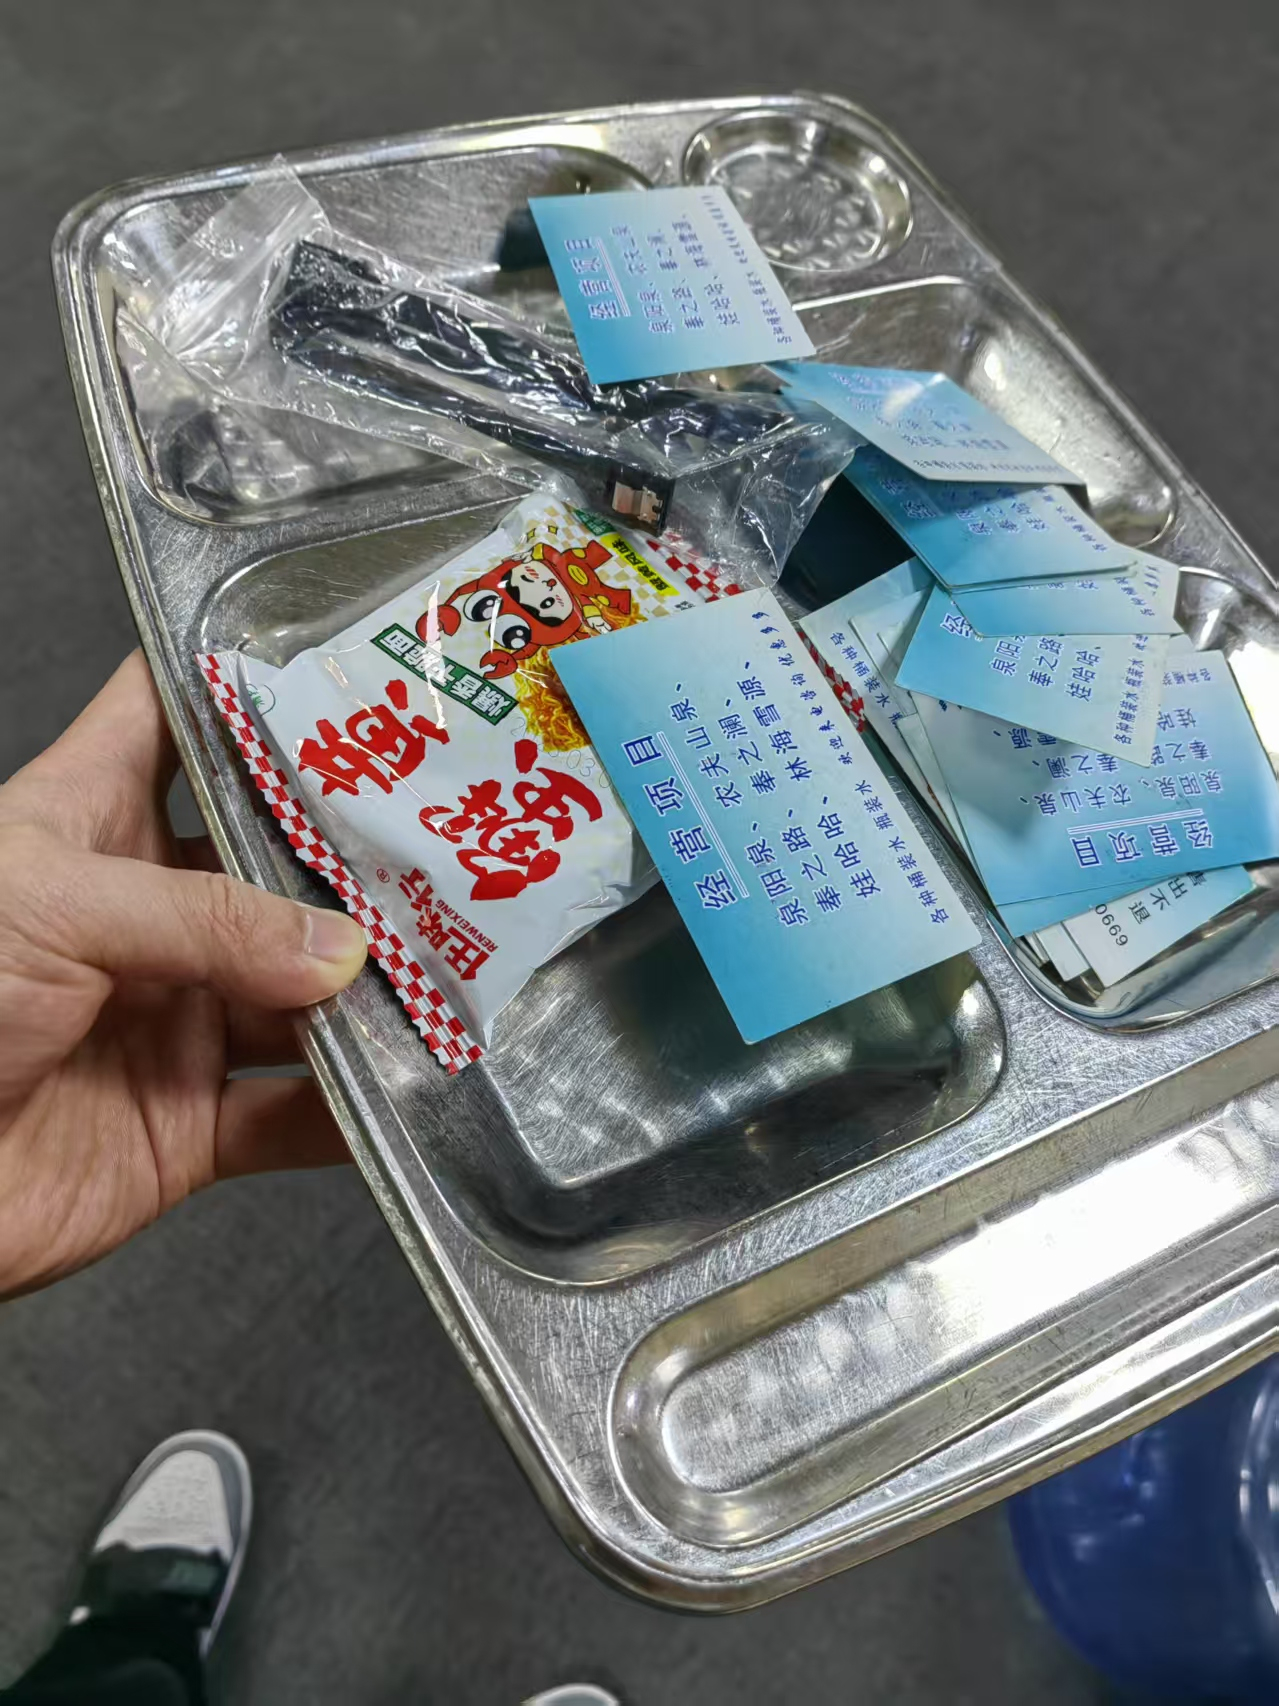plate: (46, 85, 1279, 1616)
severe: (123, 149, 1279, 1070)
